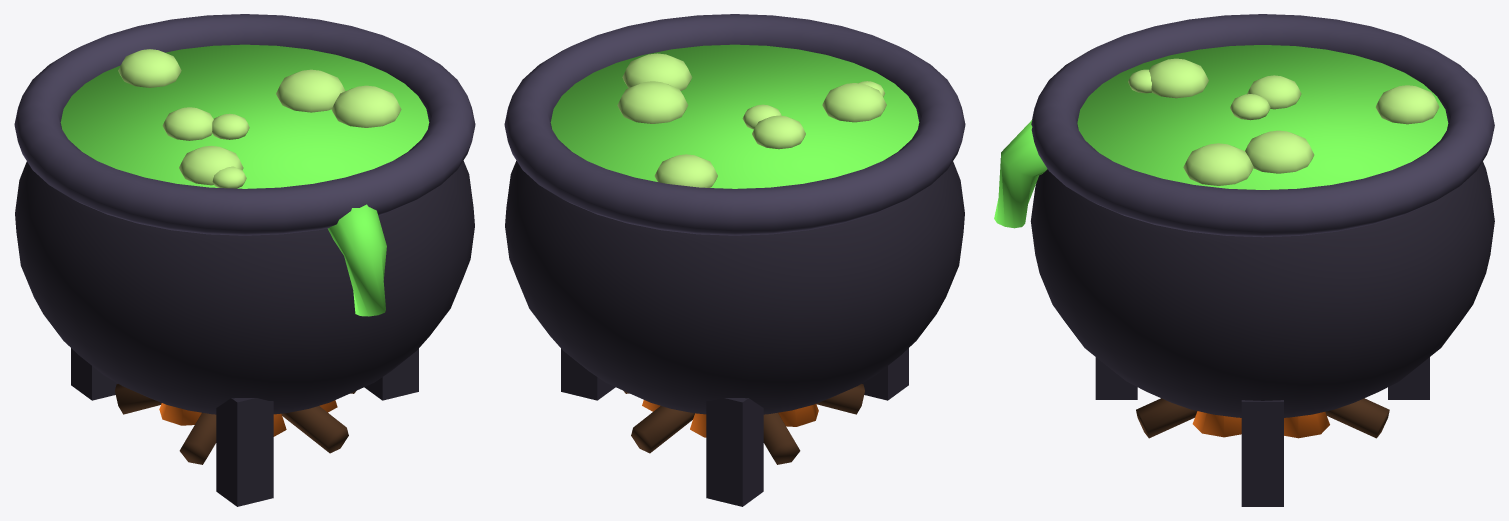
File: P_Cauldron.fbx
3 views of the same model, side by side, from view 1: azimuth 30°, elevation 25°; view 2: azimuth 150°, elevation 25°; view 3: azimuth 270°, elevation 25° (orthographic).
Parts seen in each view (by area): view 1: P_Cauldron__Iron, P_Cauldron__Rim, P_Cauldron__Brew, P_Cauldron__Bubble, P_Cauldron__Wood, P_Cauldron__Fire; view 2: P_Cauldron__Iron, P_Cauldron__Rim, P_Cauldron__Brew, P_Cauldron__Bubble, P_Cauldron__Wood, P_Cauldron__Fire; view 3: P_Cauldron__Iron, P_Cauldron__Rim, P_Cauldron__Brew, P_Cauldron__Bubble, P_Cauldron__Wood, P_Cauldron__Fire.
Part boxes in pixels (bbox=[...]): P_Cauldron__Iron: bbox=[15, 160, 474, 506]; P_Cauldron__Rim: bbox=[14, 14, 475, 235]; P_Cauldron__Brew: bbox=[60, 44, 429, 316]; P_Cauldron__Bubble: bbox=[118, 49, 401, 188]; P_Cauldron__Wood: bbox=[115, 384, 355, 464]; P_Cauldron__Fire: bbox=[159, 400, 337, 436]; P_Cauldron__Iron: bbox=[505, 160, 964, 506]; P_Cauldron__Rim: bbox=[504, 14, 965, 235]; P_Cauldron__Brew: bbox=[550, 44, 919, 188]; P_Cauldron__Bubble: bbox=[617, 53, 886, 187]; P_Cauldron__Wood: bbox=[624, 384, 864, 464]; P_Cauldron__Fire: bbox=[642, 400, 818, 437]; P_Cauldron__Iron: bbox=[1030, 161, 1494, 506]; P_Cauldron__Rim: bbox=[1031, 14, 1494, 237]; P_Cauldron__Brew: bbox=[994, 45, 1448, 228]; P_Cauldron__Bubble: bbox=[1128, 58, 1439, 185]; P_Cauldron__Wood: bbox=[1136, 398, 1389, 438]; P_Cauldron__Fire: bbox=[1192, 411, 1329, 438].
Bounding box in the file's own units: 8.8 × 6.86 × 9.5.
